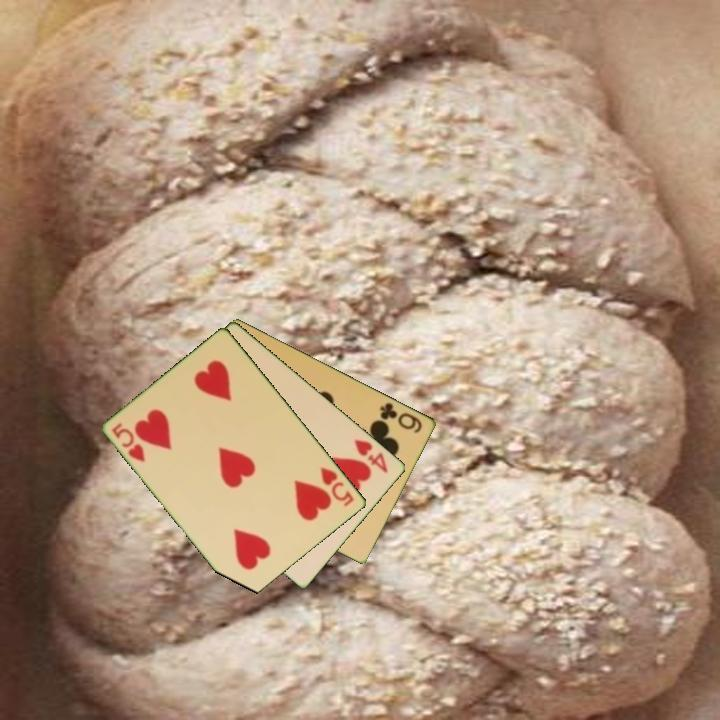4h: (351, 436, 392, 476)
5h: (317, 463, 357, 509), (108, 420, 148, 465)
6c: (376, 398, 425, 436)
